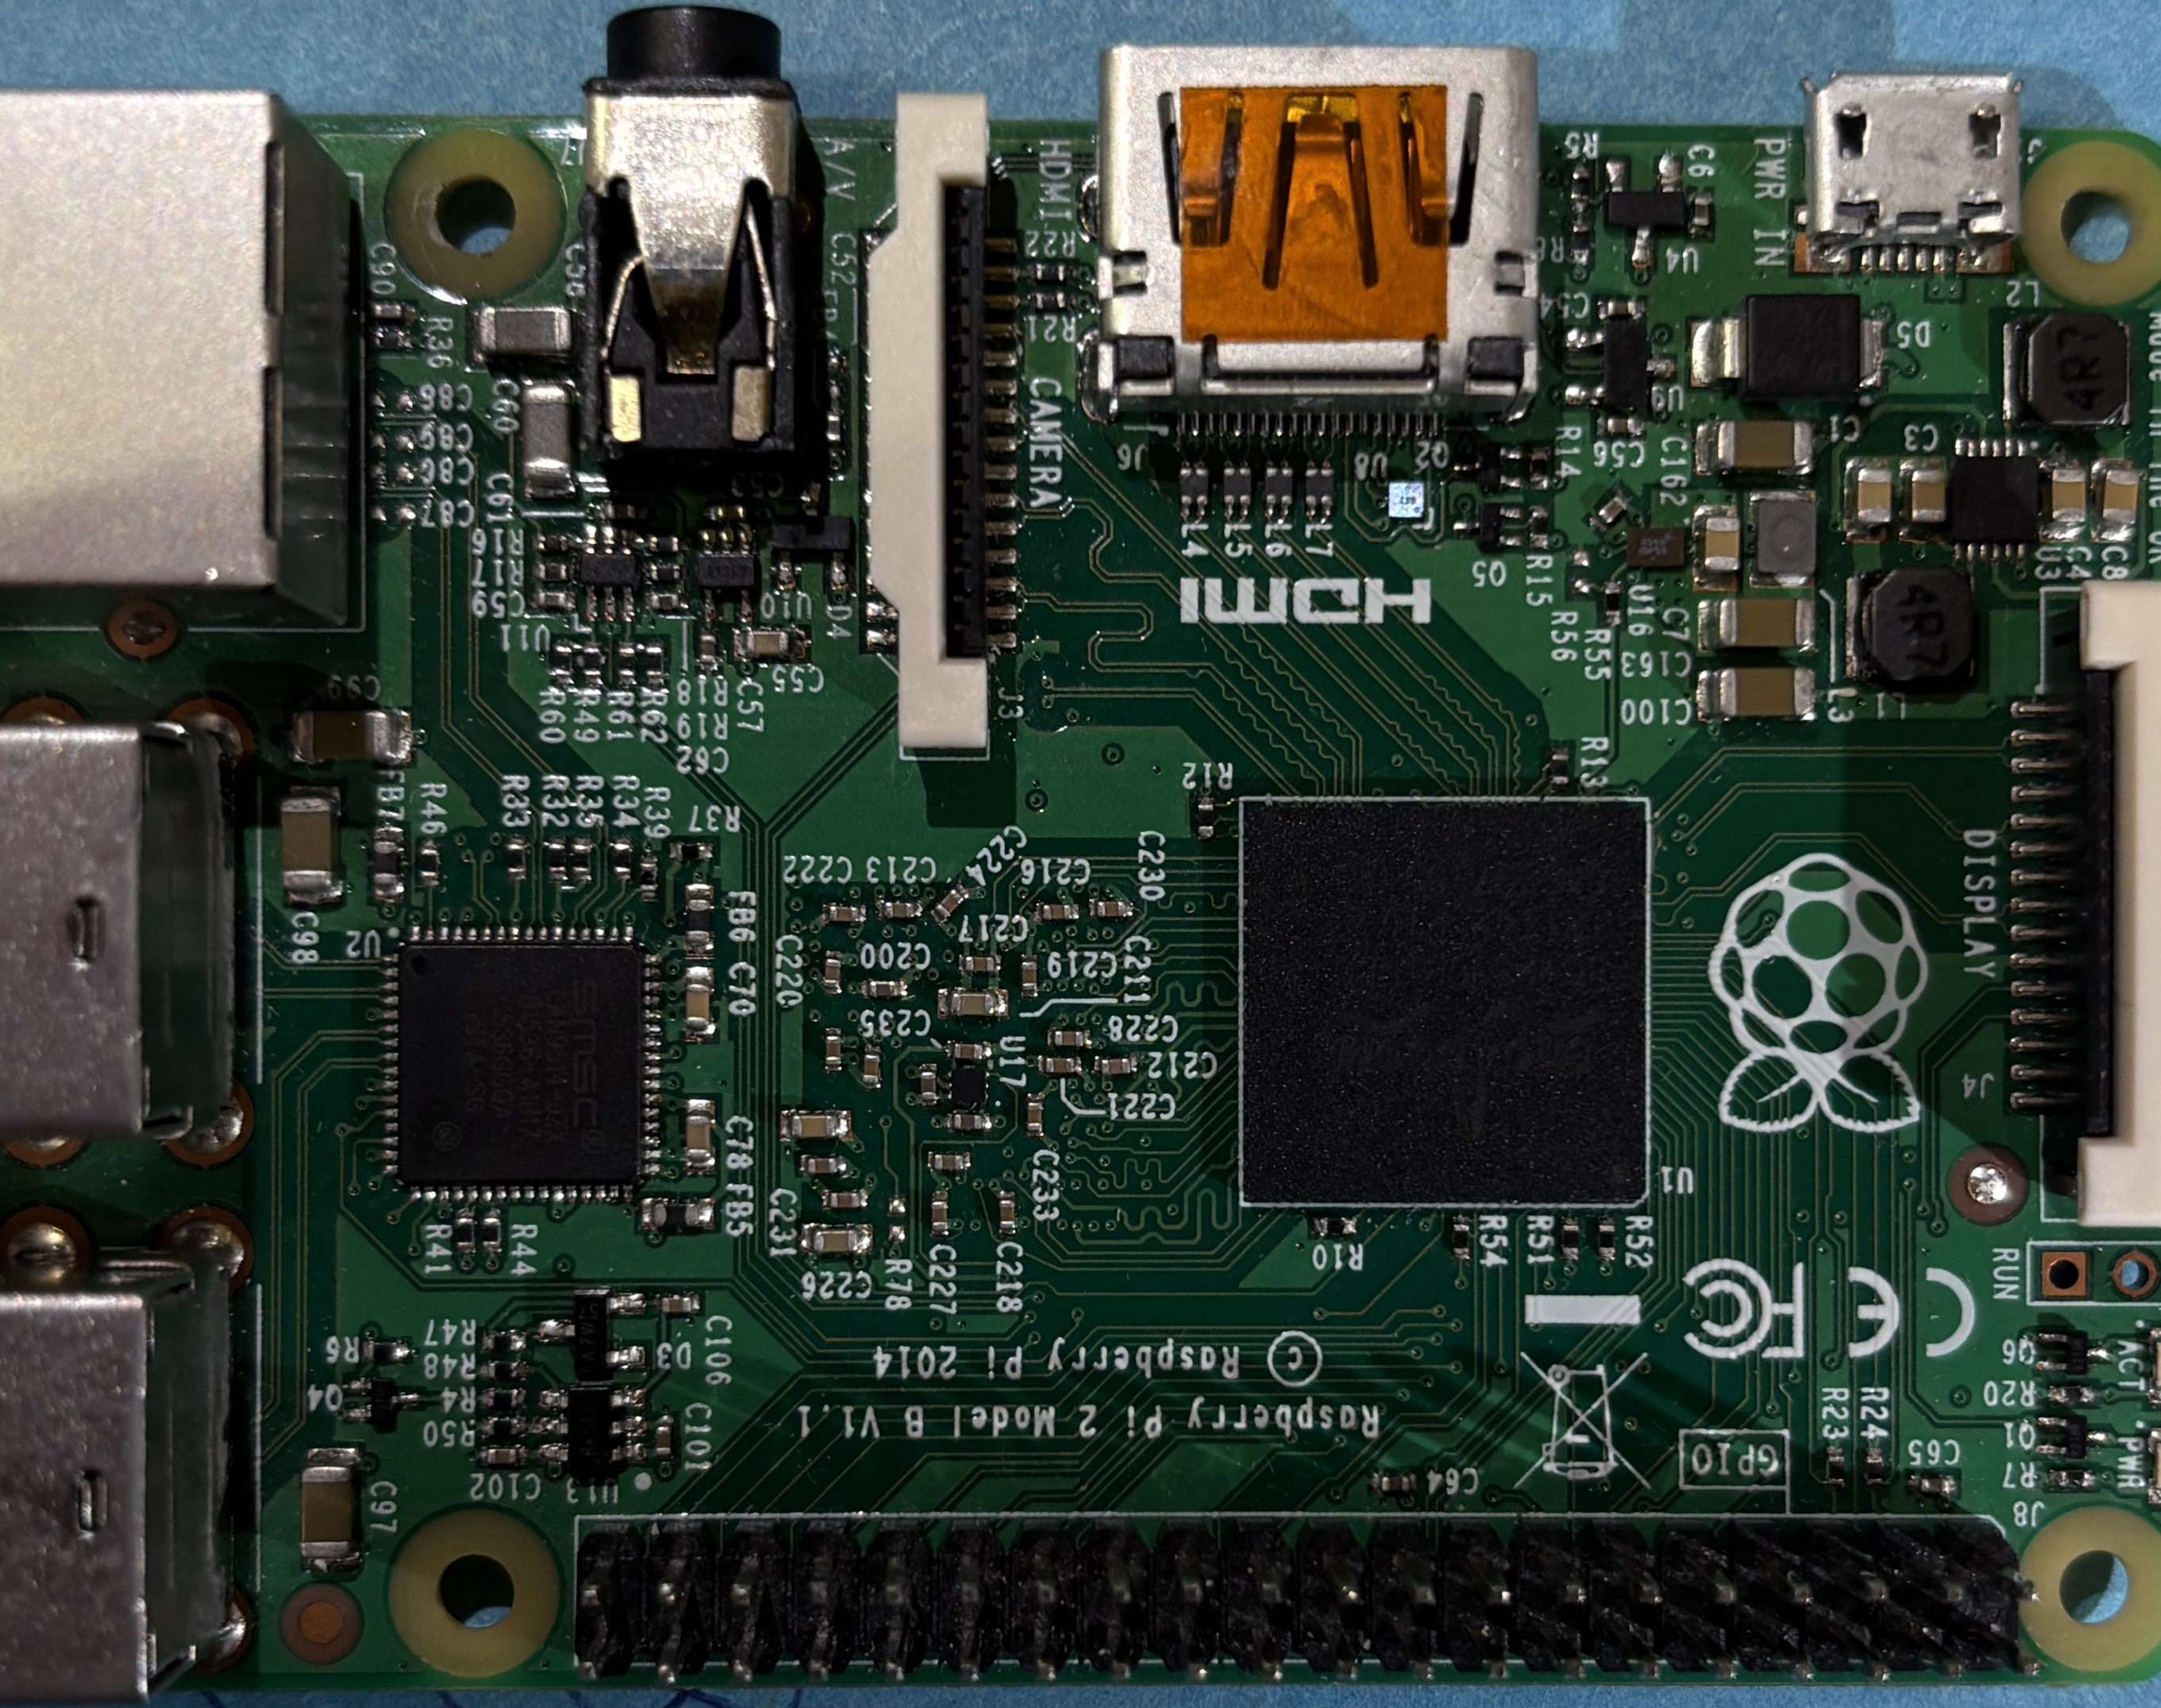Induktor: (2008, 309, 2129, 424), (1858, 568, 1970, 680), (1749, 495, 1817, 582), (1179, 451, 1210, 516), (1303, 459, 1335, 519), (1221, 456, 1251, 517), (1265, 458, 1293, 516)
